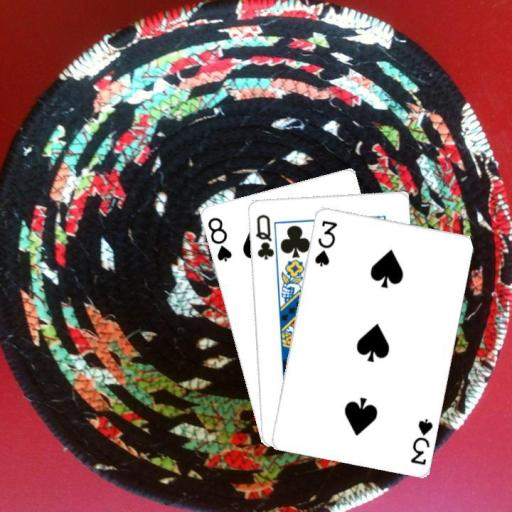3S: (311, 217, 338, 268), (407, 416, 434, 467)
8S: (204, 213, 233, 263)
QC: (253, 211, 276, 261)
